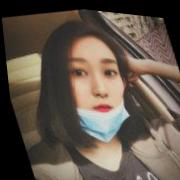WRONG: (51, 37, 135, 133)
